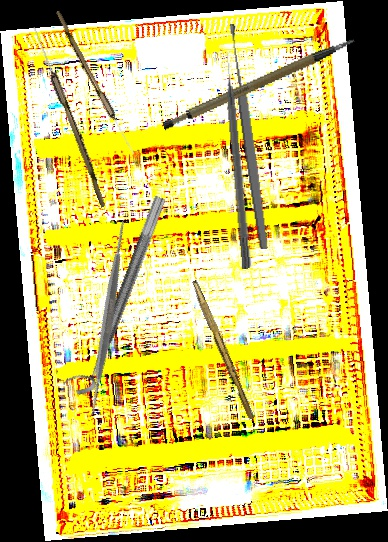Fixation Ring: (61, 188, 168, 400)
Pusher: (222, 50, 254, 270)
Scalpel Handle: (154, 37, 365, 133), (187, 279, 258, 421)
Spatula Surgical: (2, 213, 213, 423)
Surgical Spoon: (29, 25, 110, 208), (52, 10, 138, 156), (226, 23, 271, 250)
